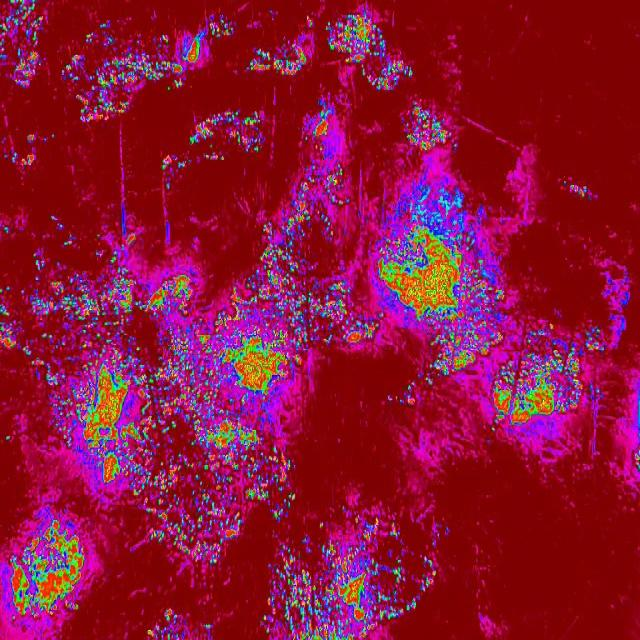fire: (45, 255, 316, 563), (372, 188, 512, 376), (265, 547, 423, 640), (491, 336, 610, 436), (284, 114, 357, 252), (4, 515, 91, 625), (326, 18, 416, 94), (65, 27, 210, 71), (186, 101, 264, 164), (60, 69, 146, 122), (317, 280, 371, 351), (406, 105, 454, 155), (147, 605, 215, 640)
